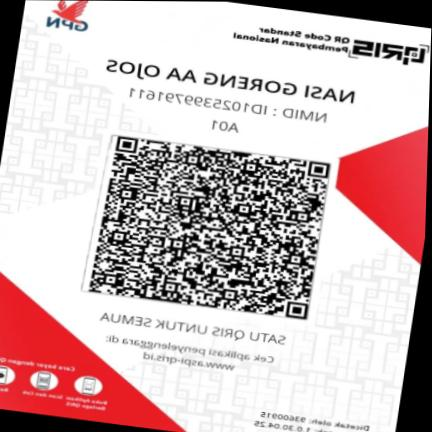Barcode_Palsu: (77, 128, 339, 325)
